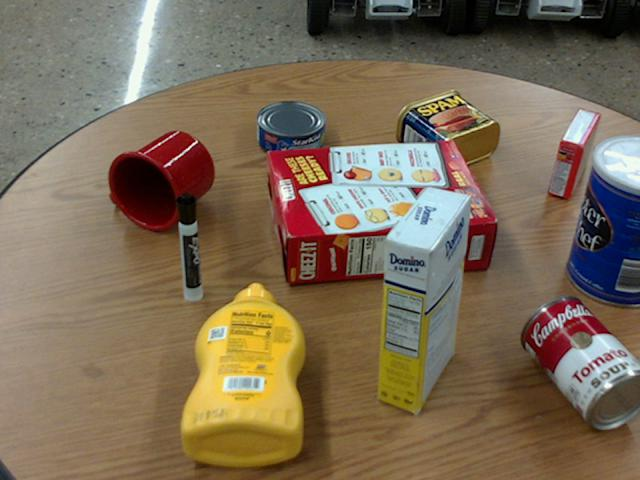cracker_box: (266, 140, 494, 284)
gelatin_box: (548, 110, 599, 198)
large_marker: (176, 192, 200, 300)
master_chef_can: (567, 136, 639, 307)
mug: (107, 130, 213, 230)
mustard_bottle: (181, 283, 304, 464)
potted_meat_can: (396, 90, 499, 169)
sugar_box: (377, 187, 471, 412)
tomato_soup_can: (521, 295, 639, 426)
tuna_fish_can: (257, 100, 325, 156)
